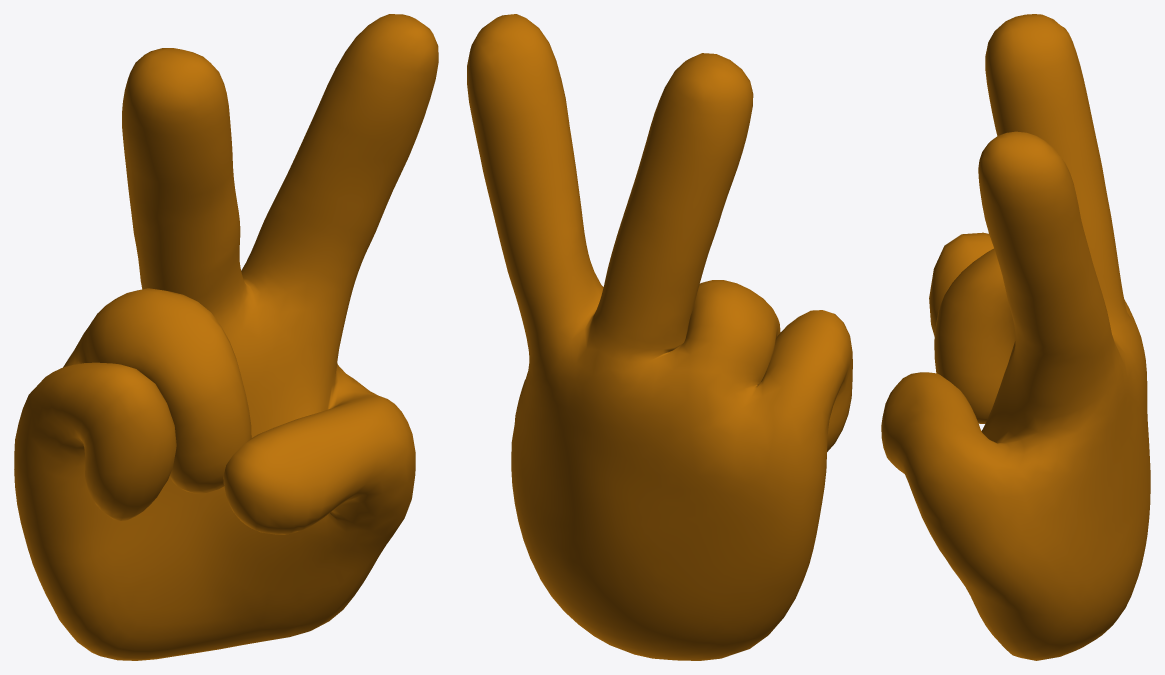
Rendered from win.fbx.
3 renders of one model, left to right at view 1: azimuth 30°, elevation 25°; view 2: azimuth 150°, elevation 25°; view 3: azimuth 270°, elevation 25°, orthographic. The views are drawn at different scales.
Parts seen in each view (by area): view 1: HAND; view 2: HAND; view 3: HAND.
Part boxes in pixels (left/top/right/bottom): HAND: left=14, top=14, right=438, bottom=660; HAND: left=467, top=14, right=852, bottom=660; HAND: left=881, top=14, right=1150, bottom=660.
Size of the model in its own units: 9.67 by 14.77 by 6.1.
